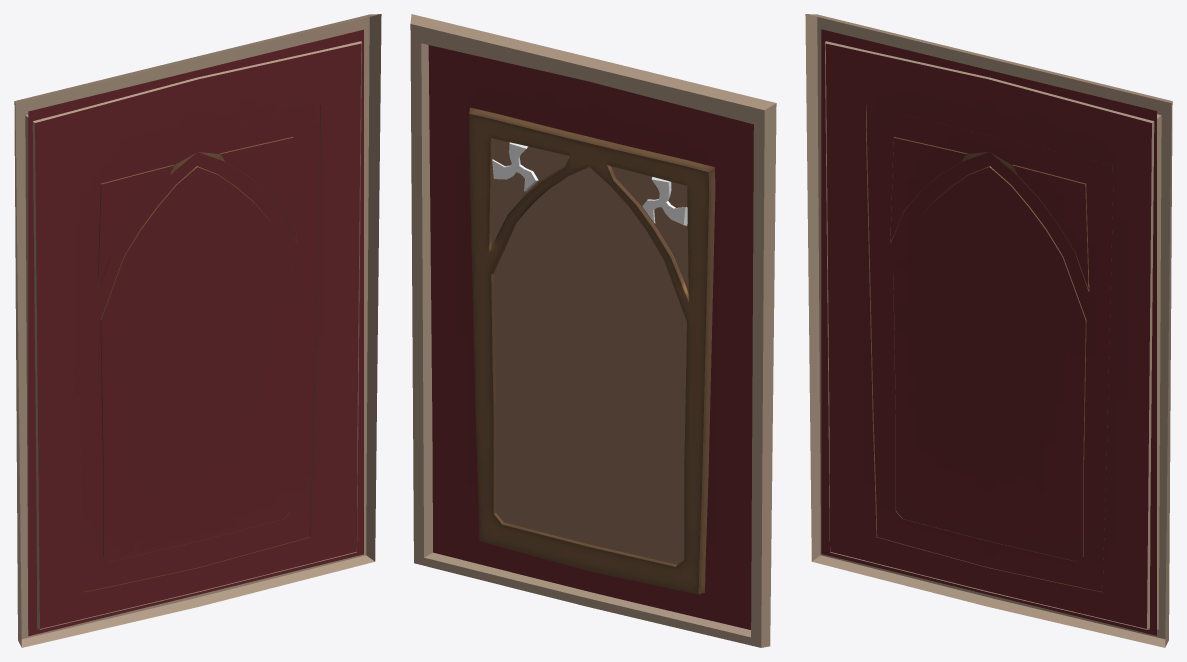
File: PaintingFrame1.fbx
3 views of the same model, side by side, from view 1: azimuth 30°, elevation 25°; view 2: azimuth 150°, elevation 25°; view 3: azimuth 330°, elevation 25° (orthographic).
Visible parts, largest first — view 1: frameBackground, paintingFrame1 (2), frame2Painting1; view 2: paintingPicture1, frameBackground, paintingFrame1 (2), frame2Painting1, painting1detail1, painting1detail; view 3: frameBackground, paintingFrame1 (2), frame2Painting1.
Part boxes in pixels (<box>): frameBackground: <box>28,29,363,636</box>; paintingFrame1 (2): <box>14,14,381,647</box>; frame2Painting1: <box>73,105,320,592</box>; paintingPicture1: <box>491,138,688,564</box>; frameBackground: <box>428,45,753,629</box>; paintingFrame1 (2): <box>410,14,776,647</box>; frame2Painting1: <box>469,107,715,594</box>; painting1detail1: <box>642,177,687,225</box>; painting1detail: <box>492,142,538,191</box>; frameBackground: <box>821,29,1156,635</box>; paintingFrame1 (2): <box>805,14,1172,647</box>; frame2Painting1: <box>866,105,1113,592</box>.
Size of the model in its own units: 4.06 by 5.82 by 0.1239.
